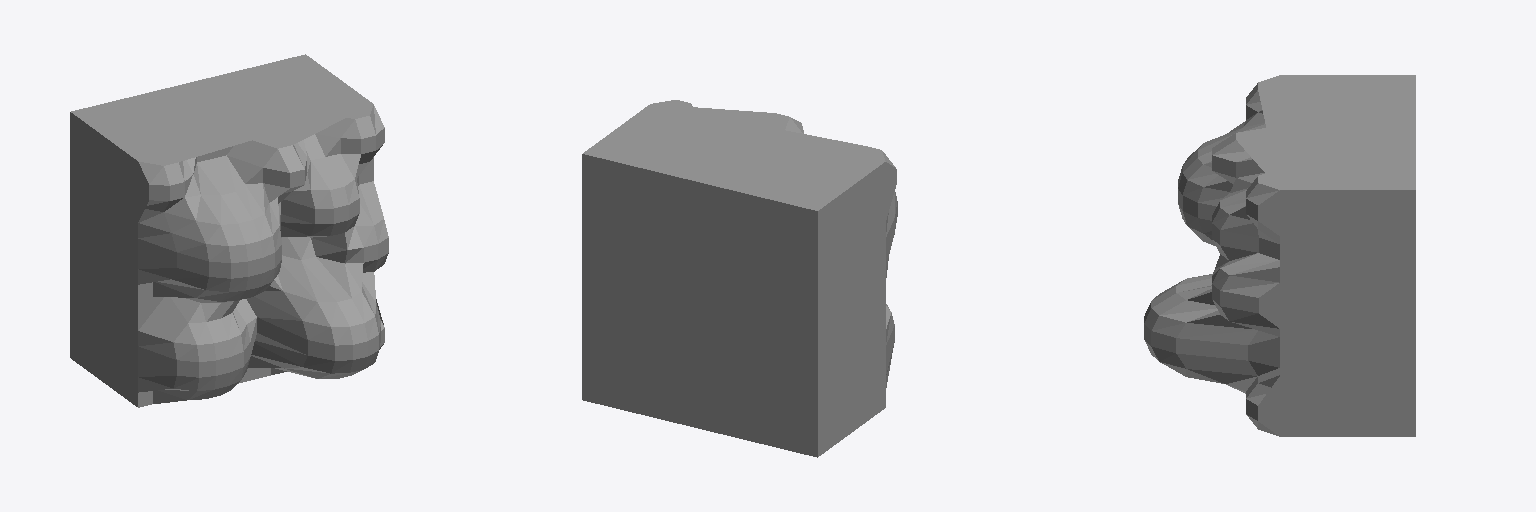
The model's file is rock4.obj.
The picture shows the model from 3 angles: view 1: azimuth 30°, elevation 25°; view 2: azimuth 150°, elevation 25°; view 3: azimuth 270°, elevation 25°; orthographic projection.
Parts seen in each view (by area): view 1: Cube; view 2: Cube; view 3: Cube.
Boxes of the visible parts, x1=… form: Cube: x1=70, y1=54, x2=388, y2=407; Cube: x1=582, y1=100, x2=897, y2=457; Cube: x1=1144, y1=75, x2=1415, y2=436.
Size of the model in its own units: 2 by 2 by 2.